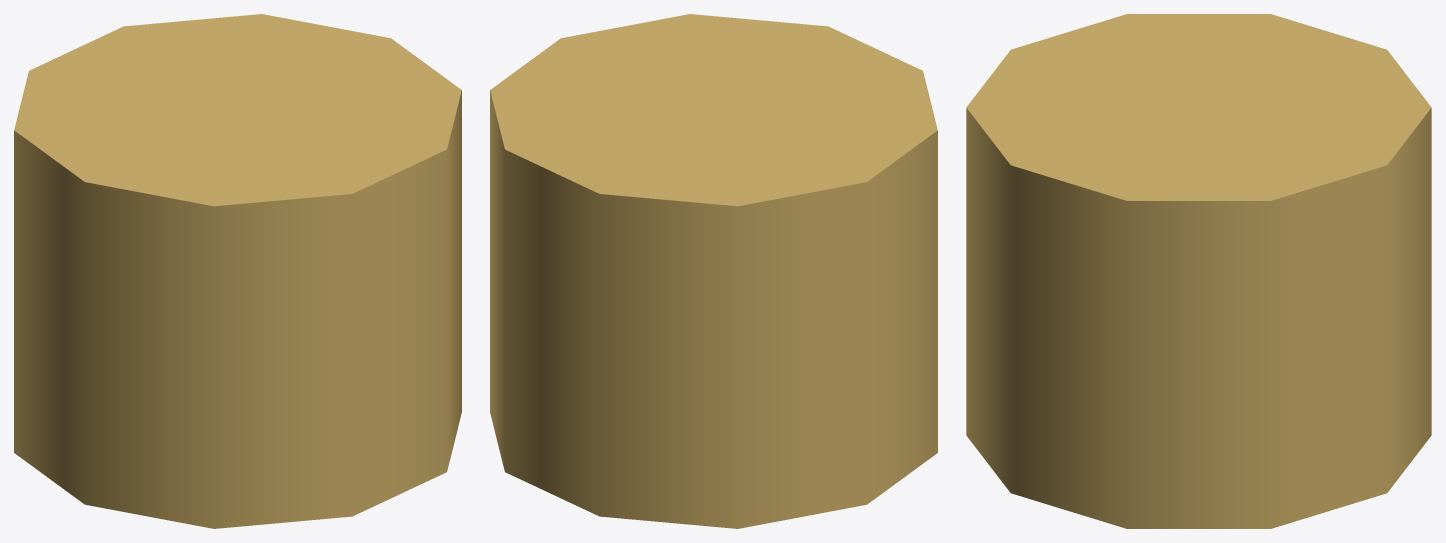
Rendered from hay_bale.glb.
3 views of the same model, side by side, from view 1: azimuth 30°, elevation 25°; view 2: azimuth 150°, elevation 25°; view 3: azimuth 270°, elevation 25° (orthographic).
Parts seen in each view (by area): view 1: hay_bale; view 2: hay_bale; view 3: hay_bale.
Part boxes in pixels (x1,y1,x2,y2): hay_bale: (14,14,461,528); hay_bale: (490,14,937,528); hay_bale: (966,14,1431,528).
Bounding box in the file's own units: 0.856 × 0.7 × 0.9.
